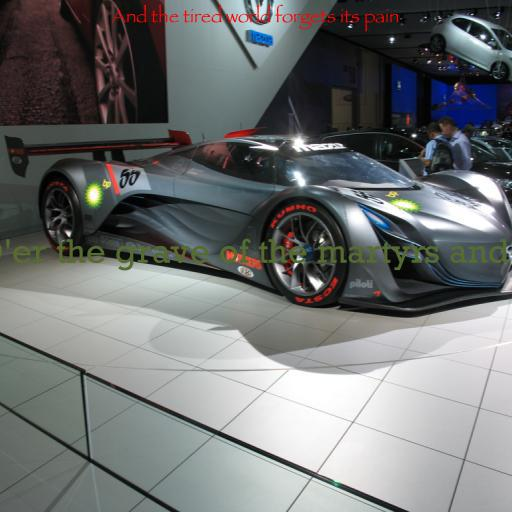Papyrus: (111, 4, 399, 32)
Rockwell: (0, 238, 512, 271)
